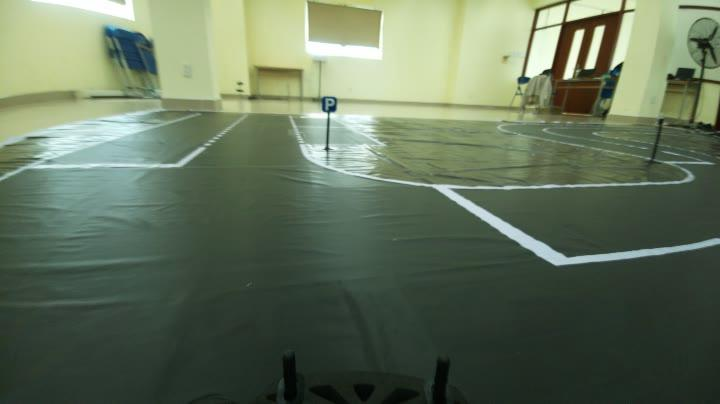parking: (314, 88, 344, 114)
